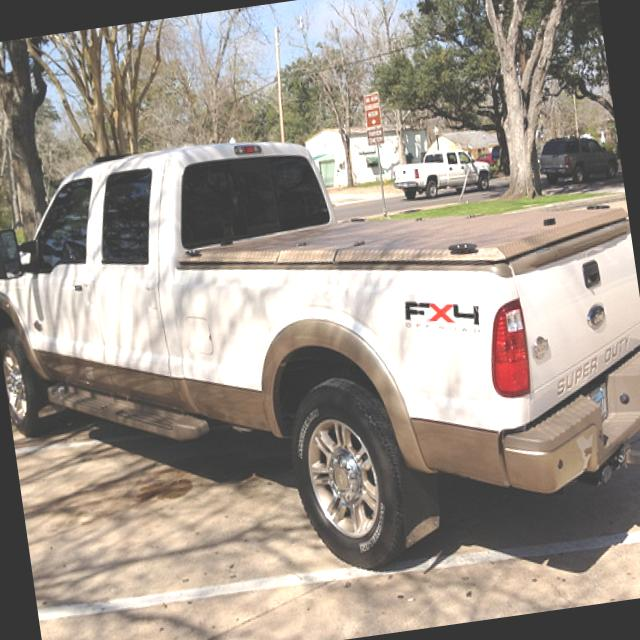Vehicle: (0, 84, 640, 620), (388, 143, 496, 204), (536, 130, 620, 190), (490, 145, 502, 168)
